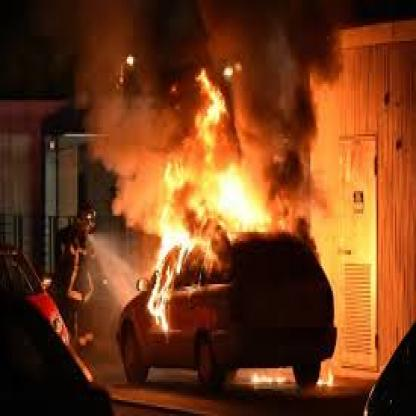fire: (140, 121, 310, 370)
